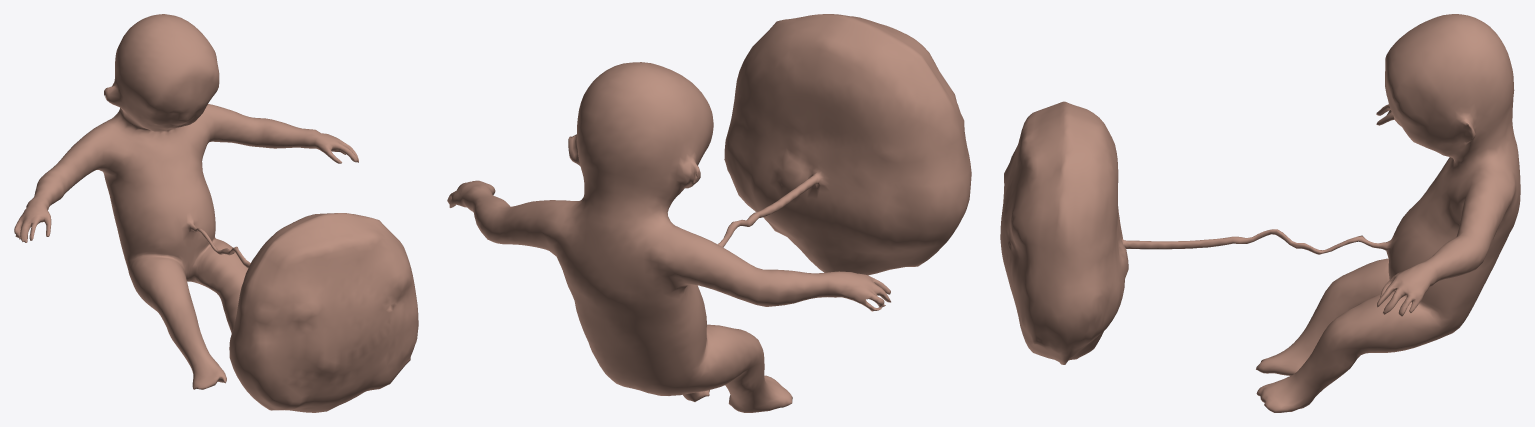
Rendered from semana40.glb.
The picture shows the model from 3 angles, left to right: view 1: azimuth 30°, elevation 25°; view 2: azimuth 150°, elevation 25°; view 3: azimuth 270°, elevation 25°; orthographic projection. The views are drawn at different scales.
Parts seen in each view (by area): view 1: Mesh1; view 2: Mesh1; view 3: Mesh1.
Boxes of the visible parts, x1,y1,x2,y2 form: Mesh1: [14, 14, 418, 412]; Mesh1: [447, 14, 971, 412]; Mesh1: [1000, 14, 1520, 412].
Bounding box in the file's own units: 1.81 × 1.58 × 1.98.
